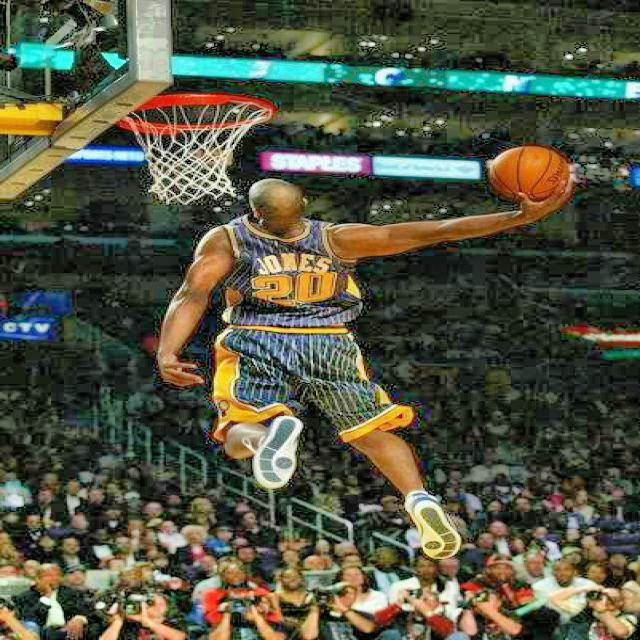board: (490, 146, 570, 202)
rim: (124, 93, 273, 200)
